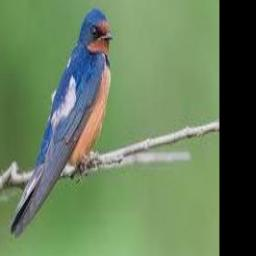Swallow: (10, 11, 114, 236)
